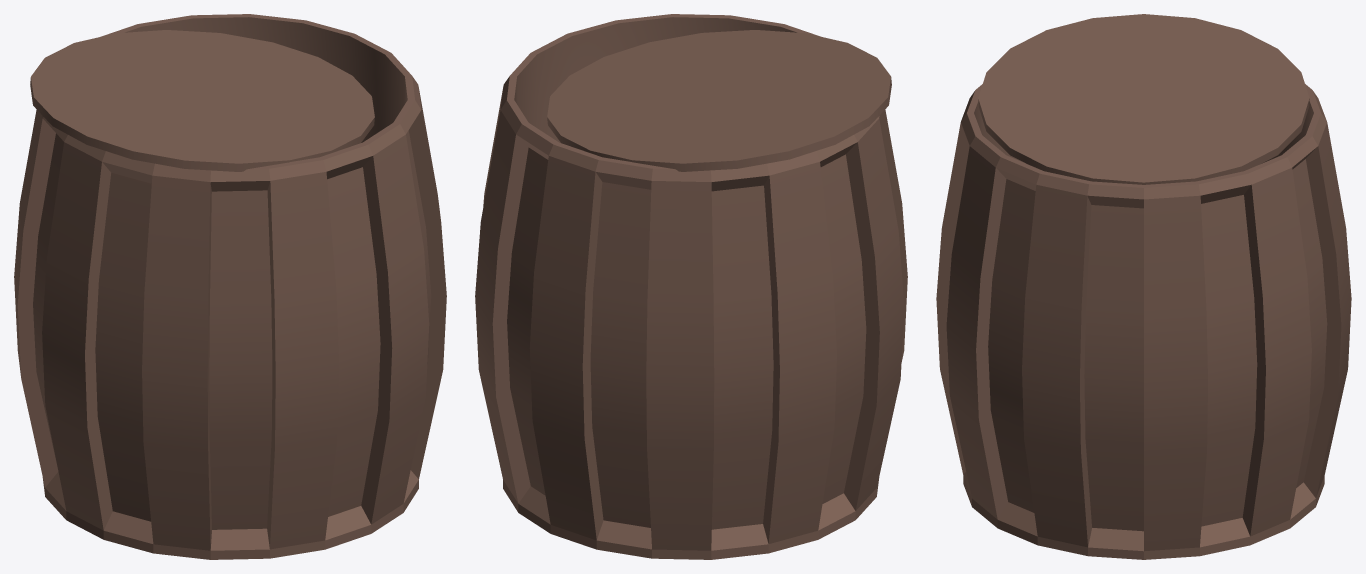
Rendered from Crate_Model_V03.fbx.
The picture shows the model from 3 angles, left to right: view 1: azimuth 30°, elevation 25°; view 2: azimuth 150°, elevation 25°; view 3: azimuth 270°, elevation 25°; orthographic projection. The views are drawn at different scales.
Visible parts, largest first — view 1: pCylinder6; view 2: pCylinder6; view 3: pCylinder6.
Part boxes in pixels (bbox=[...]): pCylinder6: bbox=[14, 14, 446, 559]; pCylinder6: bbox=[475, 14, 907, 559]; pCylinder6: bbox=[936, 14, 1351, 559].
Bounding box in the file's own units: 96.79 × 99.55 × 96.79.
Materials: 1 (1 with a texture image).
